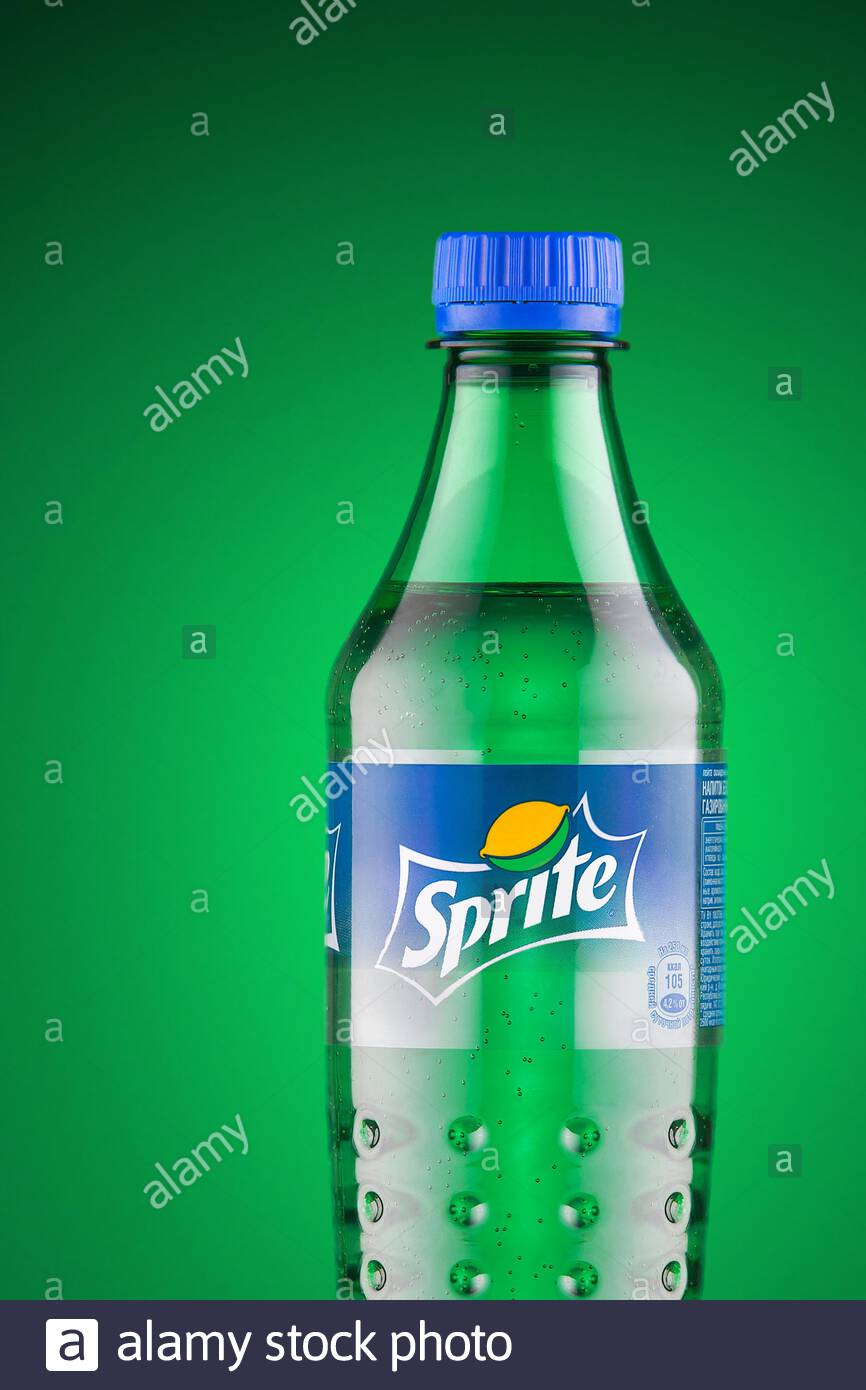sprite_bottle: (323, 229, 729, 1298)
